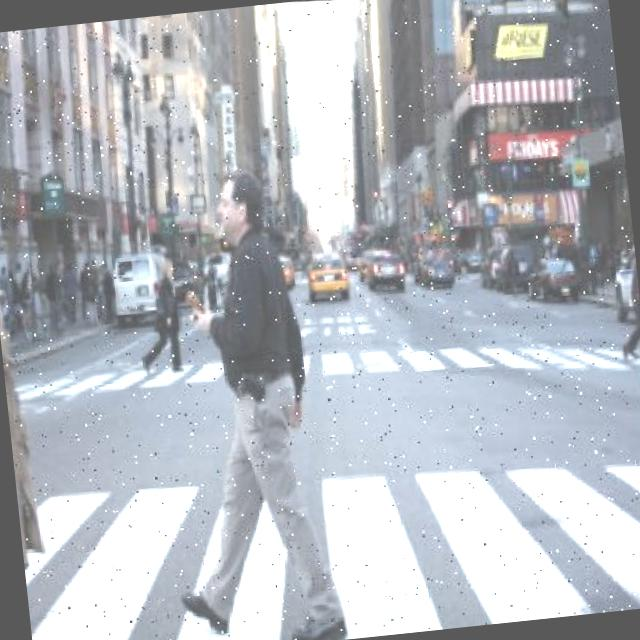Person: (133, 158, 376, 640), (132, 252, 192, 376)
